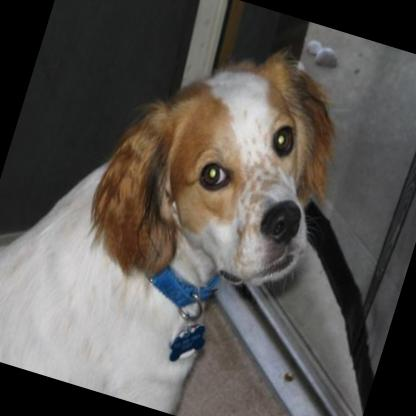Brittany_spaniel: (0, 0, 360, 416)
